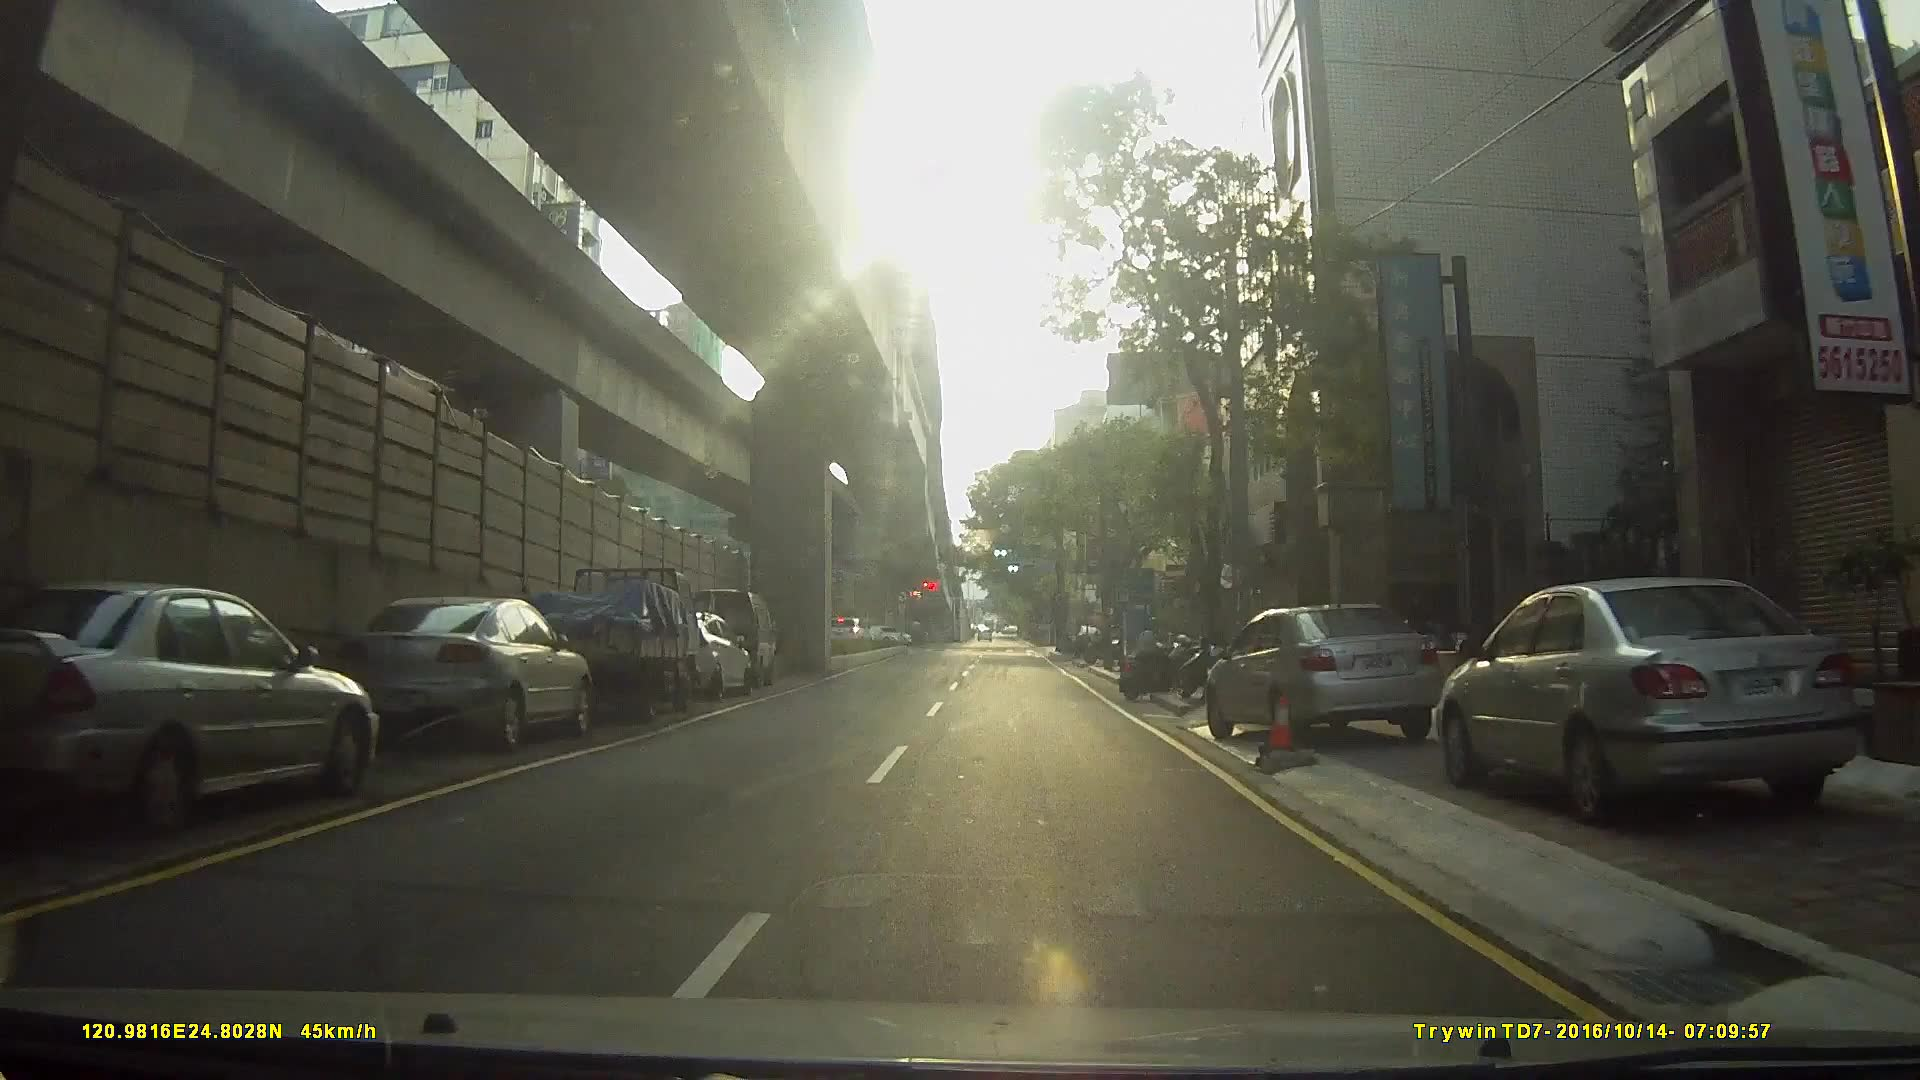rider: (1121, 623, 1197, 706)
vehicle: (1419, 572, 1867, 835), (1, 586, 378, 839), (307, 595, 594, 759), (1210, 599, 1459, 744), (520, 563, 697, 725), (640, 608, 752, 702), (821, 614, 874, 650)
